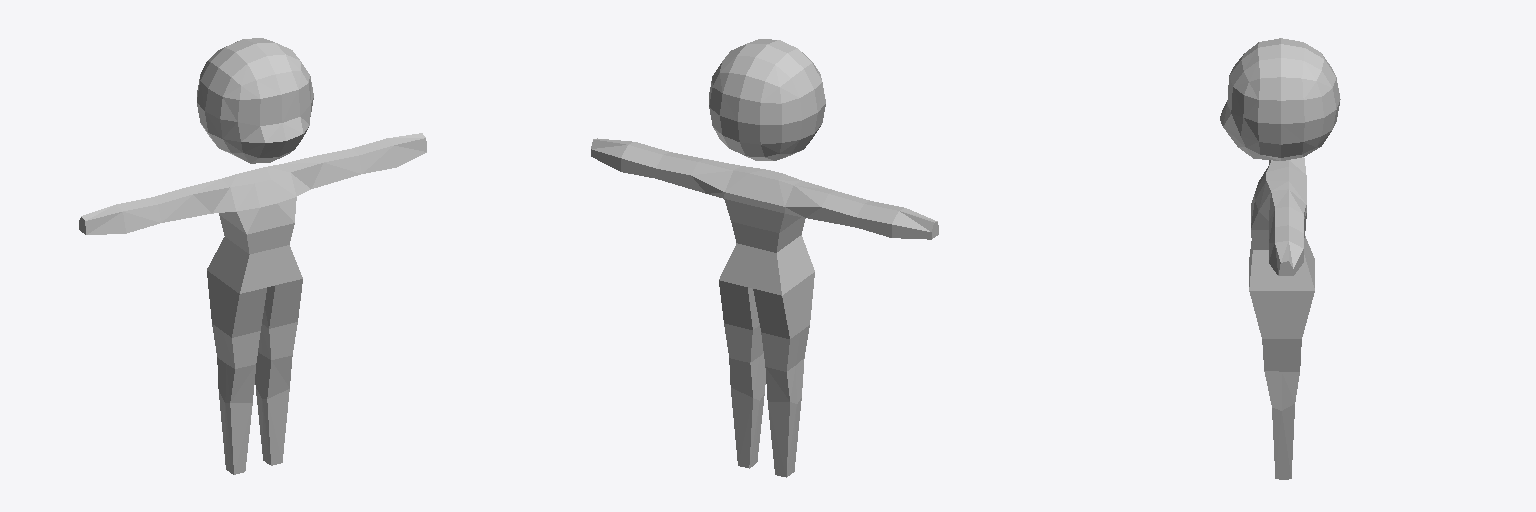
The model's file is playerPeopoler.obj.
3 views of the same model, side by side, from view 1: azimuth 30°, elevation 25°; view 2: azimuth 150°, elevation 25°; view 3: azimuth 270°, elevation 25° (orthographic).
Visible parts, largest first — view 1: 立方体; view 2: 立方体; view 3: 立方体.
Part boxes in pixels (bbox=[...]): 立方体: bbox=[79, 38, 426, 474]; 立方体: bbox=[591, 39, 938, 477]; 立方体: bbox=[1220, 38, 1340, 479].
Bounding box in the file's own units: 2.64 × 3.13 × 0.8117.